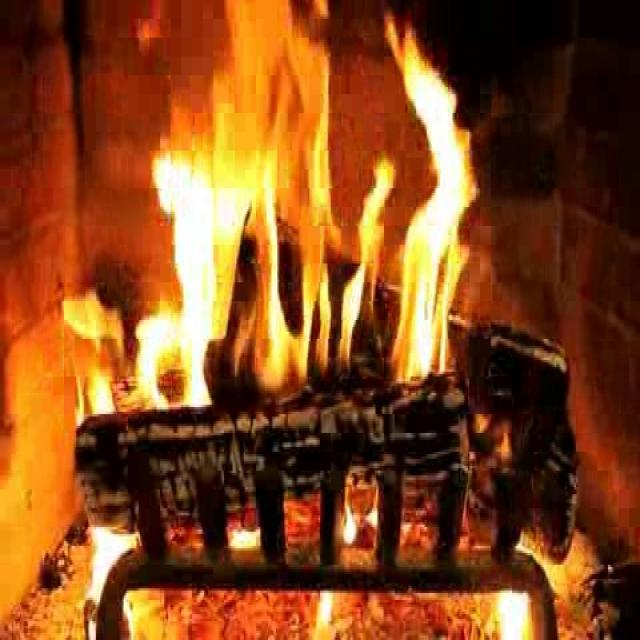fire: (160, 20, 461, 395)
